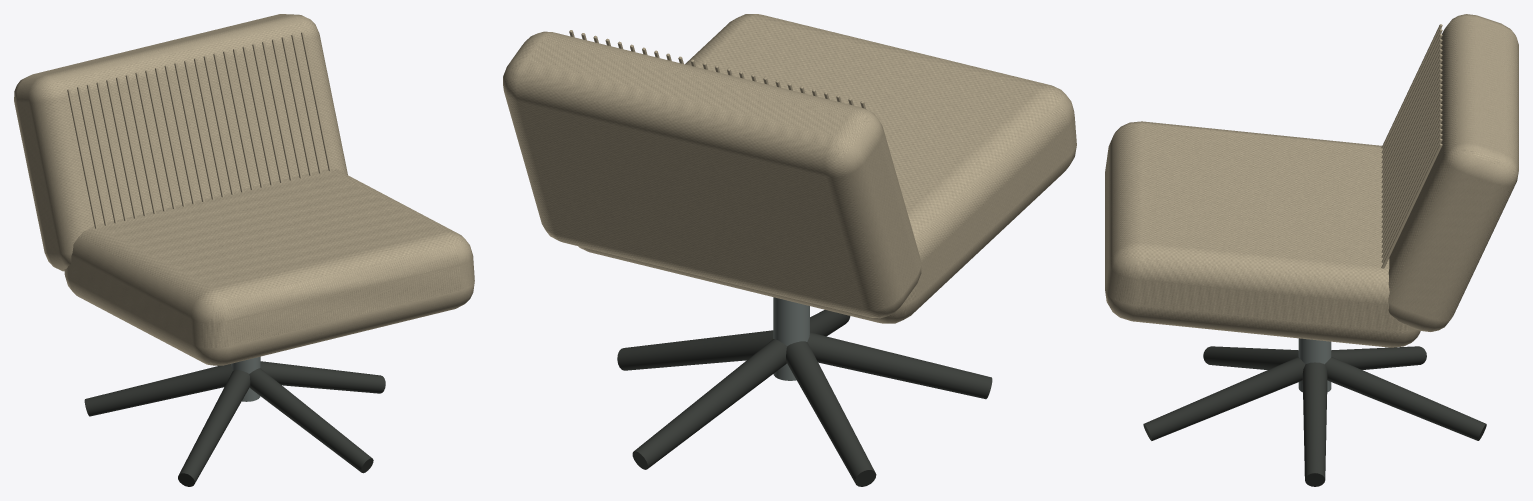
The model's file is dyvlinge.glb.
The picture shows the model from 3 angles, left to right: view 1: azimuth 30°, elevation 25°; view 2: azimuth 150°, elevation 25°; view 3: azimuth 270°, elevation 25°; orthographic projection. The views are drawn at different scales.
Parts seen in each view (by area): view 1: DYVLINGE Swivel armchair; view 2: DYVLINGE Swivel armchair; view 3: DYVLINGE Swivel armchair.
Boxes of the visible parts, left/top/right/bottom form: DYVLINGE Swivel armchair: left=14, top=14, right=474, bottom=486; DYVLINGE Swivel armchair: left=503, top=14, right=1076, bottom=486; DYVLINGE Swivel armchair: left=1105, top=14, right=1518, bottom=486.
Size of the model in its own units: 0.63 by 0.68 by 0.75.
Materials: 3 (2 with a texture image).
